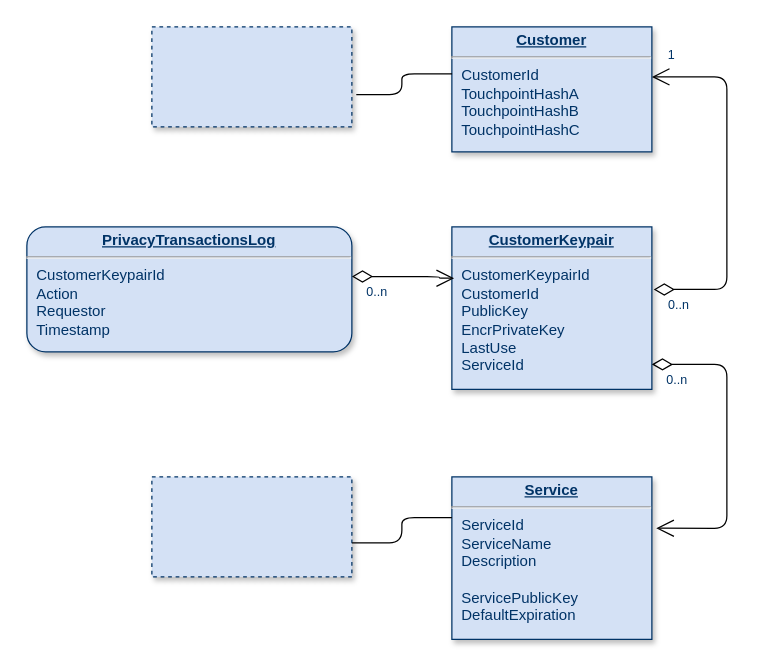
This 770x670 diagram has some shape labels left out. The shapes that lost their labels are listed below. From the top down, each one's centre as x and y in pixels, then its label:
At (x=252, y=78): "CustomerAuthentication CustomerAuthenticationId CustomerId PrivacyPassHash".
At (x=252, y=528): "ServiceAuthentication ServiceAuthenticationId ServiceId ServicePassHash".
